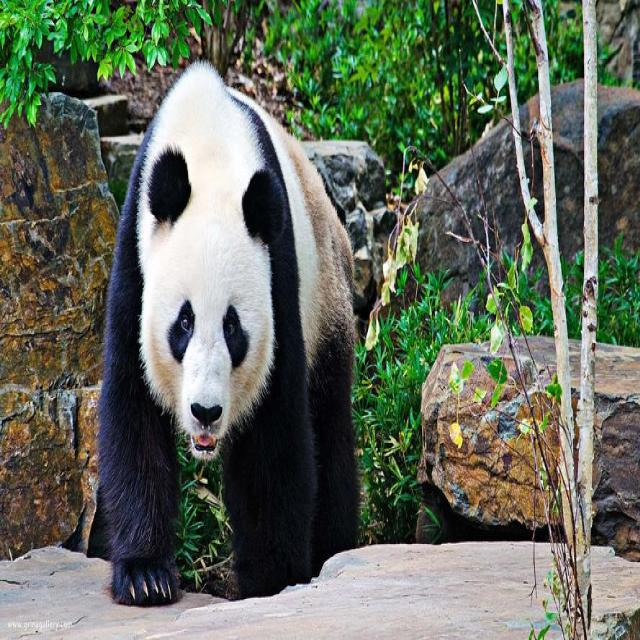panda: (93, 52, 363, 608)
